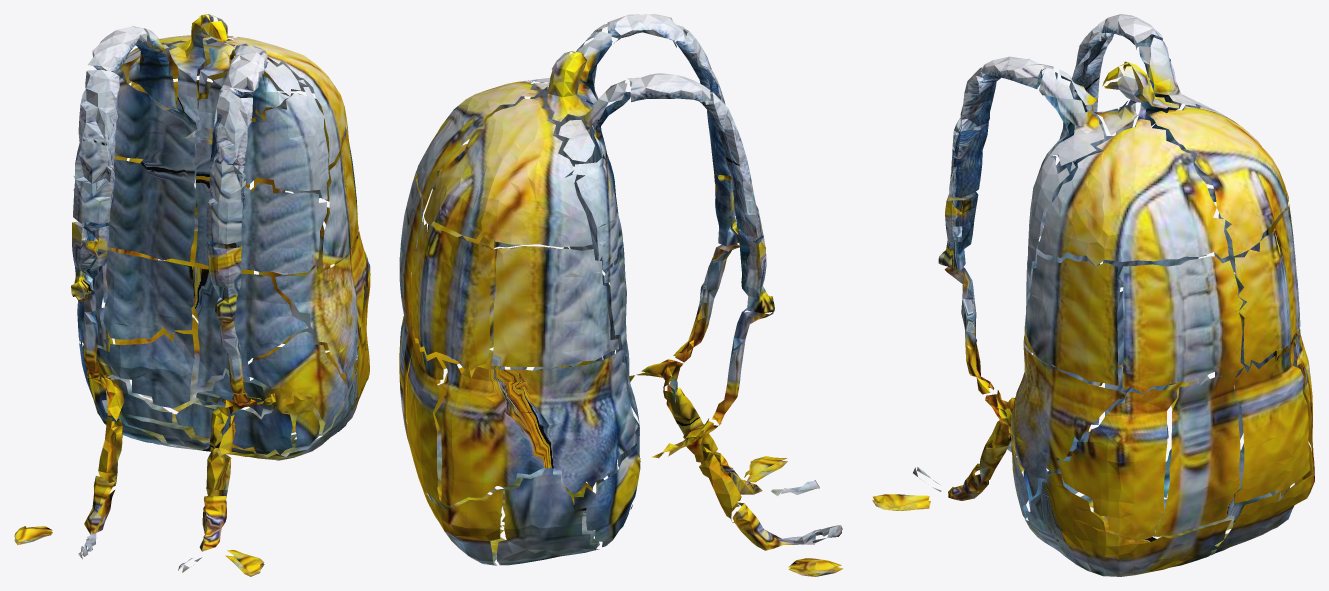
File: pack_yellow.glb
The picture shows the model from 3 angles, left to right: view 1: azimuth 30°, elevation 25°; view 2: azimuth 150°, elevation 25°; view 3: azimuth 270°, elevation 25°; orthographic projection. The views are drawn at different scales.
Size of the model in its own units: 0.6973 by 0.8054 by 0.6713.
Materials: 1 (1 with a texture image).
